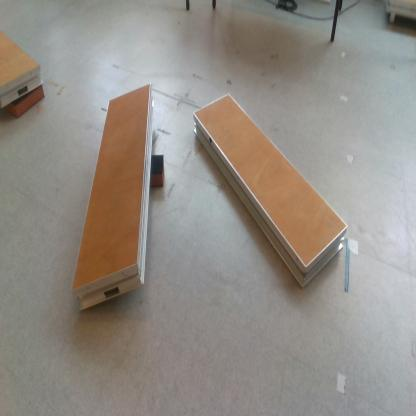Stairs: (193, 92, 350, 292), (70, 82, 156, 316), (1, 30, 44, 111)
